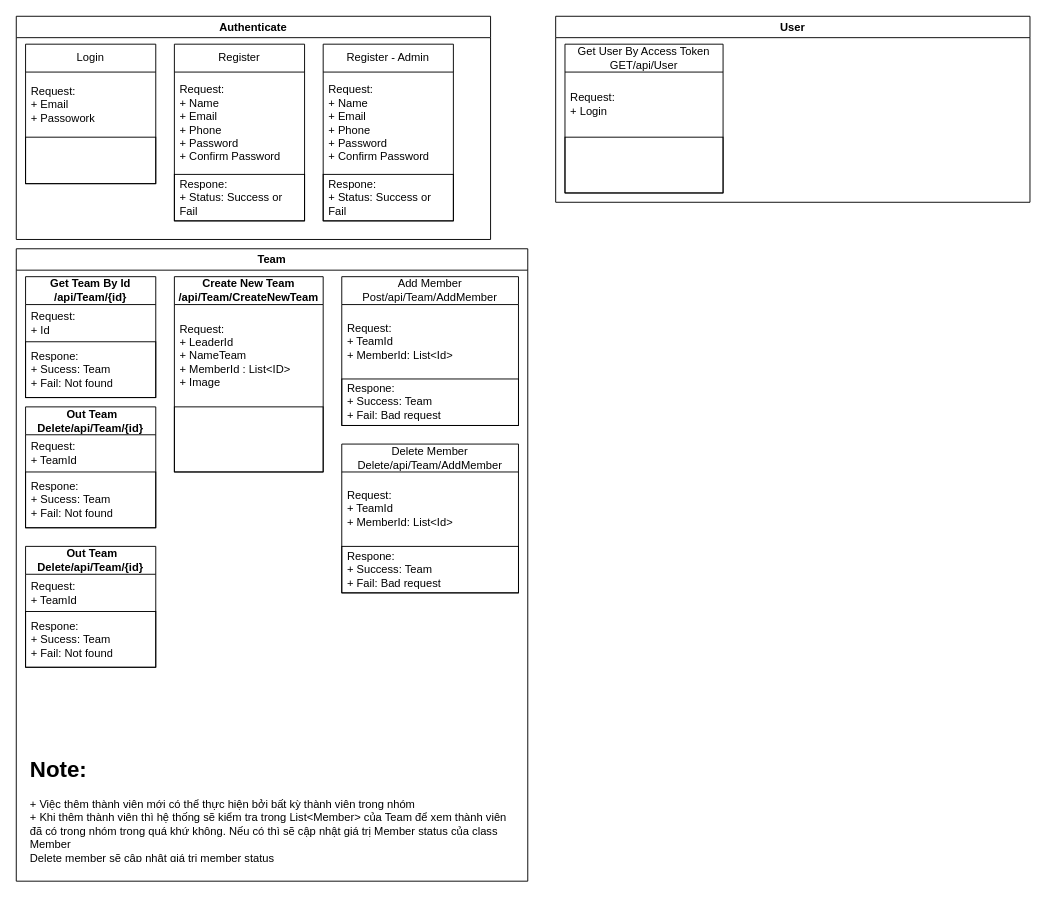
Image size: 1046x897. Some labels were removed from this diagram. Here are the shapes that lost their labels. From the top down, the centre of each, then its label:
At pixel 90 160: "Respone: + Token".
At pixel 643 164: "Respone: + Sucess: User + Fail: Bad request".
At pixel 248 439: "Respone: + Sucess: Team + Fail: Bad request".
